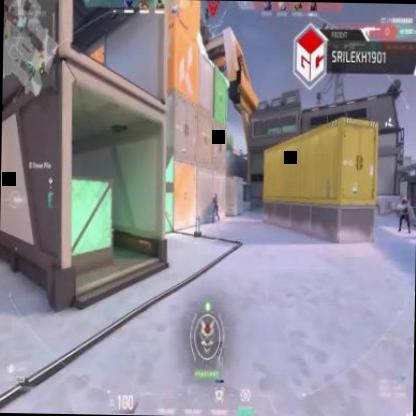enemy: (398, 196, 412, 234), (211, 192, 220, 222)
enemy_head: (402, 195, 408, 204), (214, 192, 217, 198)
